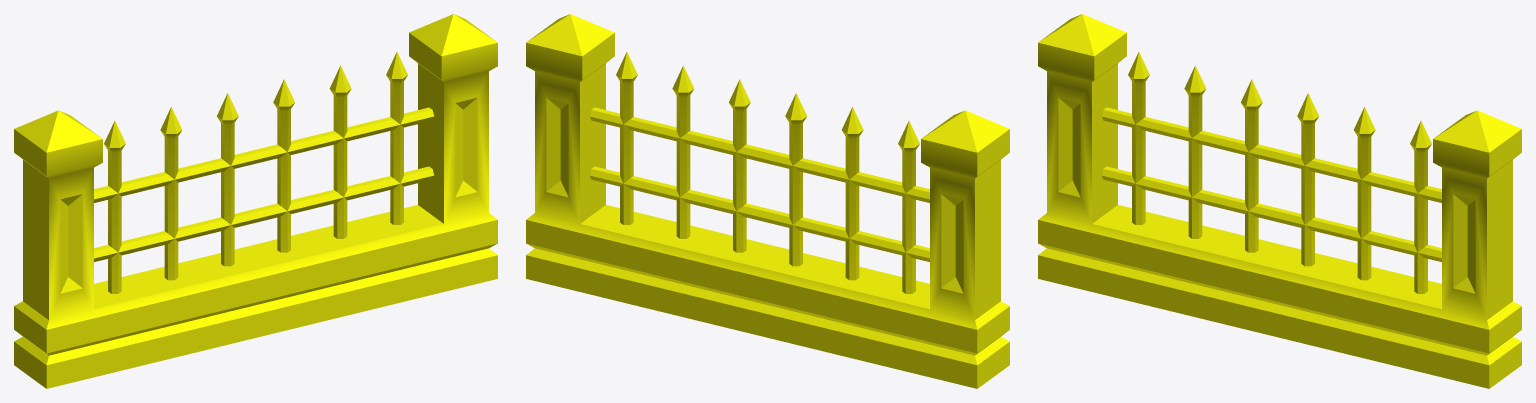
Rendered from kaykit-fence.glb.
The picture shows the model from 3 angles, left to right: view 1: azimuth 30°, elevation 25°; view 2: azimuth 150°, elevation 25°; view 3: azimuth 330°, elevation 25°; orthographic projection.
Visible parts, largest first — view 1: fence; view 2: fence; view 3: fence.
Boxes of the visible parts, x1,y1,x2,y2 form: fence: (14, 14, 497, 388); fence: (526, 14, 1009, 388); fence: (1038, 14, 1521, 388).
Bounding box in the file's own units: 4 × 2.2 × 0.5.
